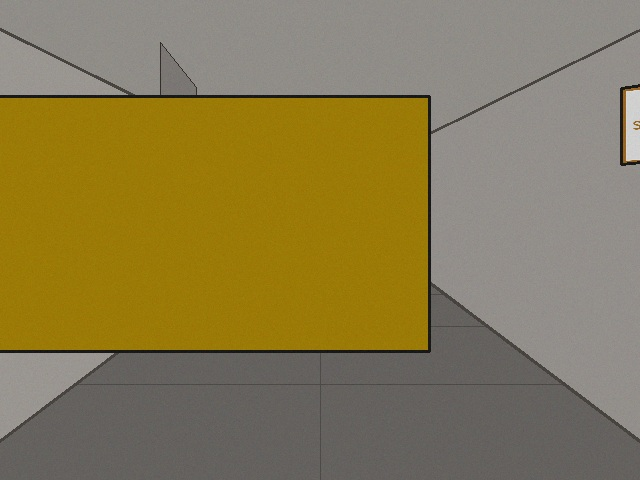directional_sign: (621, 60, 639, 164)
forklift: (0, 0, 429, 351)
